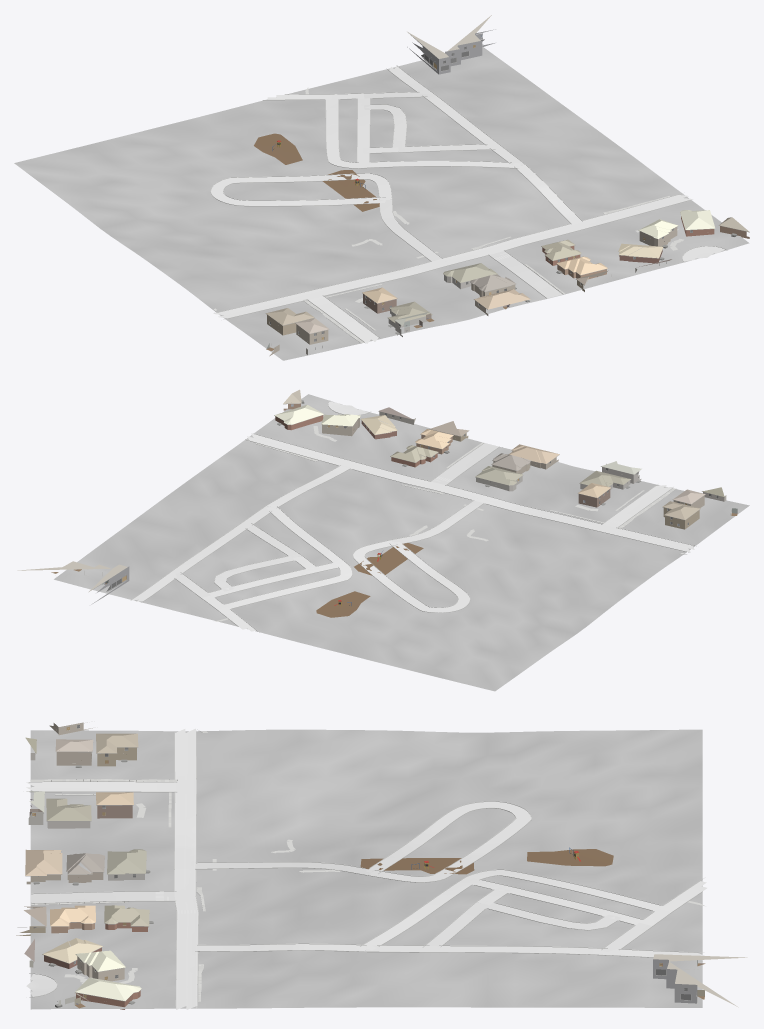
3 renders of one model, top to bottom at view 1: azimuth 30°, elevation 25°; view 2: azimuth 150°, elevation 25°; view 3: azimuth 270°, elevation 25°, orthographic. The views are drawn at different scales.
Parts seen in each view (by area): view 1: ground, concrete, roof, curb, asphalt, detail, wall, walk, wall_com; view 2: ground, concrete, roof, curb, asphalt, detail, wall, walk, wall_stone, wall_stucco, roof_flat; view 3: ground, concrete, roof, asphalt, curb, wall, detail, walk, roof_flat, wall_com, wall_stone, mark_w (+1 smaller).
Boxes of the visible parts, x1,y1,x2,y2 form: ground: (14,46,749,360); concrete: (211,65,724,343); roof: (266,210,749,333); curb: (210,65,727,342); asphalt: (213,195,693,317); detail: (254,37,749,350); wall: (267,216,749,356); walk: (214,87,683,343); wall_com: (407,29,495,74); ground: (54,394,749,691); concrete: (131,401,673,631); roof: (274,389,724,519); curb: (130,400,696,632); asphalt: (247,433,694,552); detail: (65,400,731,617); wall: (275,403,704,529); walk: (215,426,683,621); wall_stone: (476,467,641,491); wall_stucco: (322,411,726,501); roof_flat: (17,561,127,592); ground: (30,729,702,1009); concrete: (26,782,706,996); roof: (24,733,149,1000); asphalt: (174,728,198,1009); curb: (29,730,704,1008); wall: (16,722,148,1009); detail: (17,722,702,1007); walk: (30,731,705,1001); roof_flat: (653,954,747,1007); wall_com: (653,959,697,1003); wall_stone: (28,812,144,880); mark_w: (155,730,197,1007).
Size of the model in its own units: 268 by 12.36 by 274.
